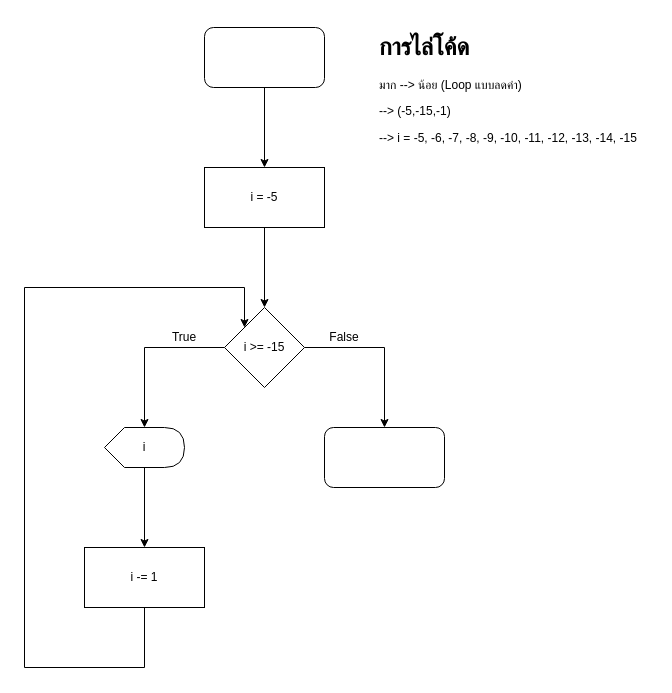
This 672x693 diagram has some shape labels left out. Each missing label, with the centre of its shape:
"End" belongs at point 384,457.
"start" belongs at point 264,57.
